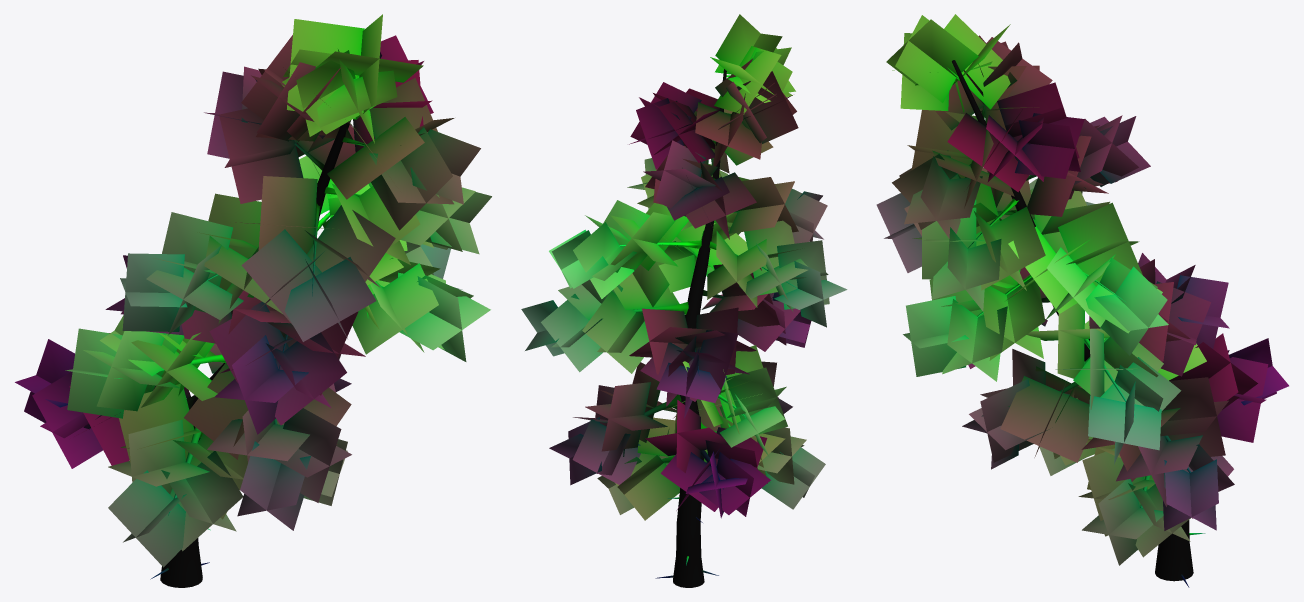
File: M_P7_Tree_5.fbx
3 views of the same model, side by side, from view 1: azimuth 30°, elevation 25°; view 2: azimuth 150°, elevation 25°; view 3: azimuth 270°, elevation 25° (orthographic). The views are drawn at different scales.
Visible parts, largest first — view 1: Tree_5; view 2: Tree_5; view 3: Tree_5.
Boxes of the visible parts, bbox=[...] form: Tree_5: bbox=[15, 14, 491, 587]; Tree_5: bbox=[521, 14, 847, 587]; Tree_5: bbox=[876, 14, 1288, 587].
Size of the model in its own units: 306 by 498 by 320.
